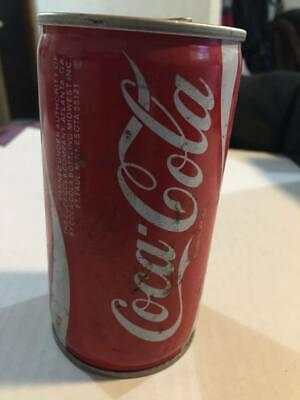metal: (38, 13, 246, 376)
